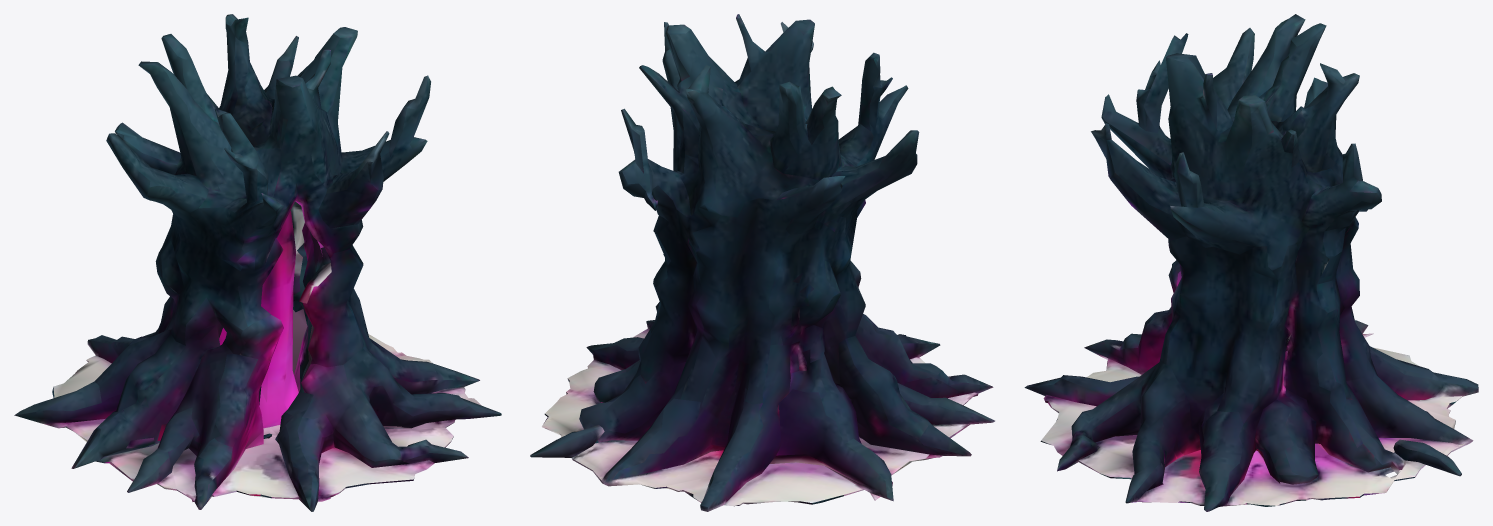
Rendered from yggdrasil-root-east.collider.glb.
The picture shows the model from 3 angles, left to right: view 1: azimuth 30°, elevation 25°; view 2: azimuth 150°, elevation 25°; view 3: azimuth 270°, elevation 25°; orthographic projection.
Parts seen in each view (by area): view 1: temp_mesh.ply; view 2: temp_mesh.ply; view 3: temp_mesh.ply.
Boxes of the visible parts, <box> form: temp_mesh.ply: <box>14,14,501,511</box>; temp_mesh.ply: <box>530,14,994,511</box>; temp_mesh.ply: <box>1024,14,1478,511</box>.
Size of the model in its own units: 1.96 by 1.76 by 1.97.
Materials: 1 (1 with a texture image).
